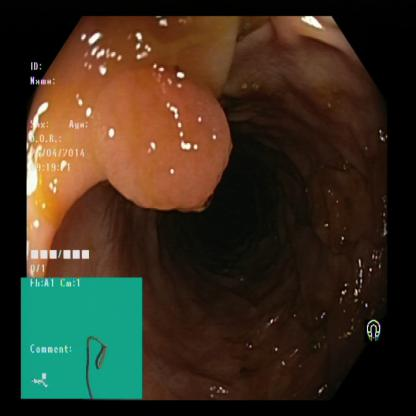Labels: (27, 60, 96, 274), (22, 278, 141, 399), (361, 308, 388, 348)
Polyps: (99, 59, 232, 209)
